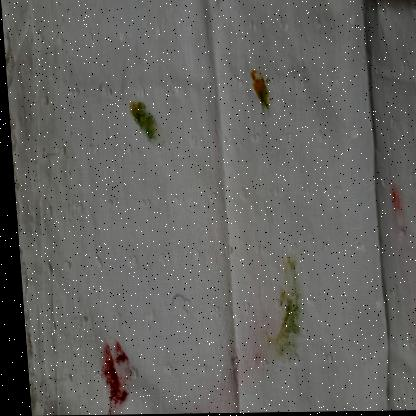spot: (86, 335, 132, 414), (271, 255, 302, 361), (122, 94, 161, 148), (244, 63, 272, 125), (250, 318, 285, 360), (382, 177, 402, 223)
